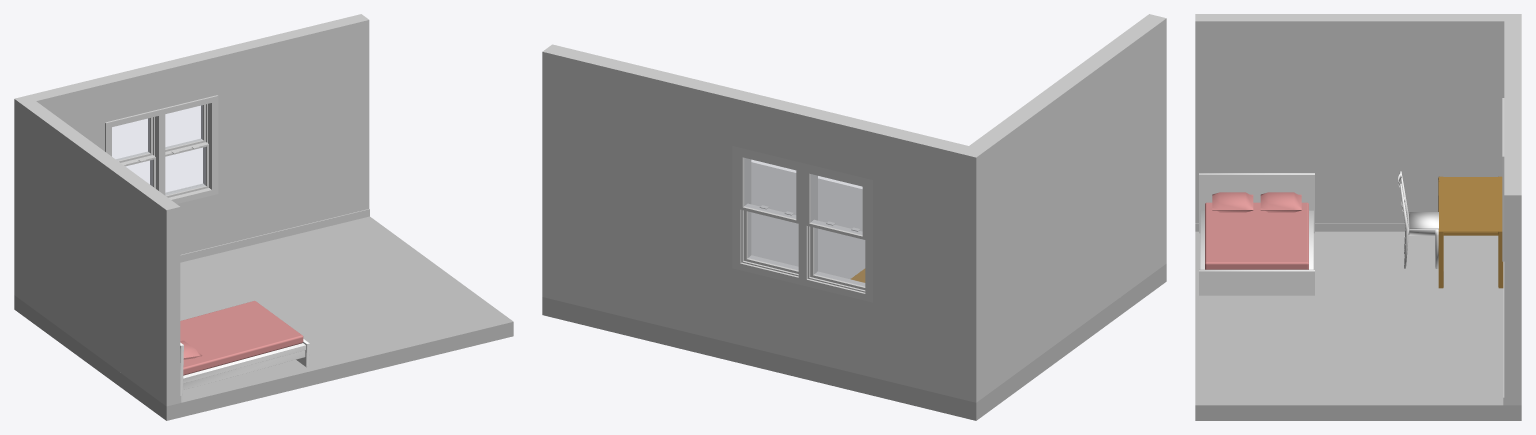
The model's file is L12_W16_furniture2_privacy1.glb.
3 renders of one model, left to right at view 1: azimuth 30°, elevation 25°; view 2: azimuth 150°, elevation 25°; view 3: azimuth 270°, elevation 25°, orthographic. The views are drawn at different scales.
Bounding box in the file's own units: 200 × 116 × 152.
